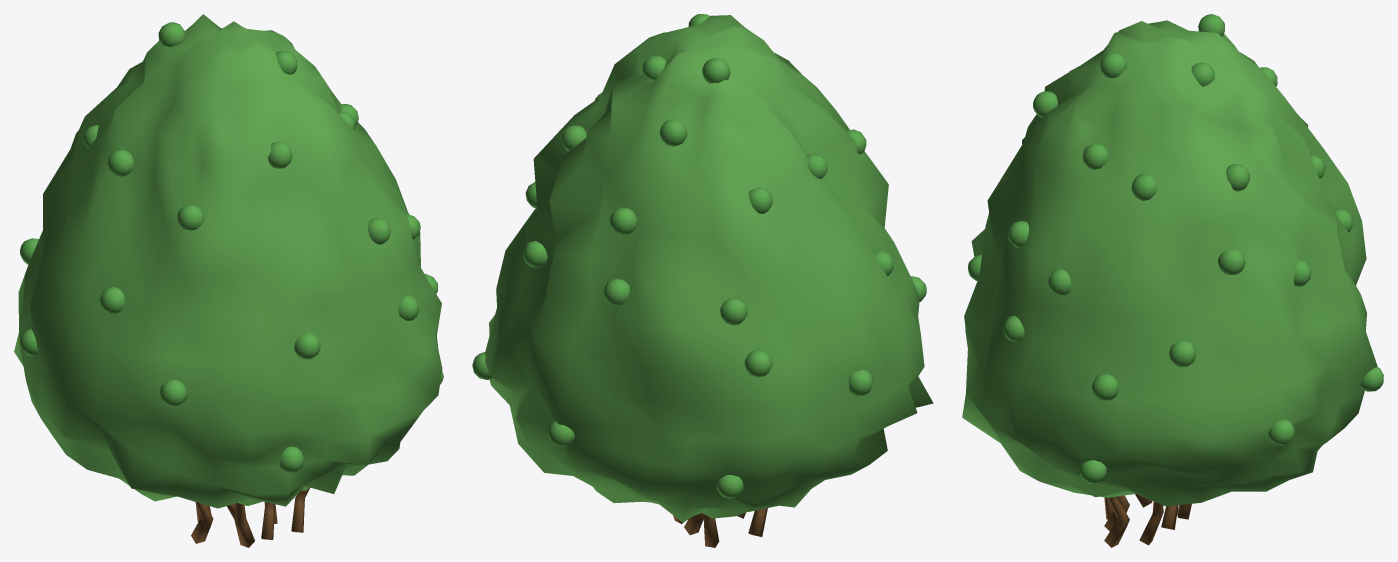
Rendered from tree_02.gltf.
3 renders of one model, left to right at view 1: azimuth 30°, elevation 25°; view 2: azimuth 150°, elevation 25°; view 3: azimuth 270°, elevation 25°, orthographic.
Visible parts, largest first — view 1: tree_02; view 2: tree_02; view 3: tree_02.
Boxes of the visible parts, left/top/right/bottom form: tree_02: left=14, top=14, right=443, bottom=547; tree_02: left=472, top=14, right=933, bottom=547; tree_02: left=962, top=14, right=1383, bottom=547.
Size of the model in its own units: 2.94 by 3.7 by 2.84.
1 material, 1 textured.
